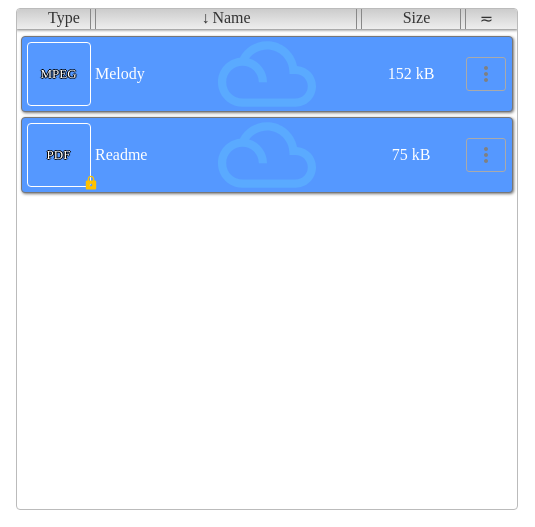
Test case: FileManager sorting › should test basic sorting
The image size is (535, 527).
expect the element with test id "file-container" is shown: met, box left=17, top=36, right=517, bottom=193
expect the text "MPEG" is shown: met, box left=40, top=66, right=76, bottom=81
Click the element with test id "column-type": {"x": 59, "y": 19} left=27, top=9, right=91, bottom=29
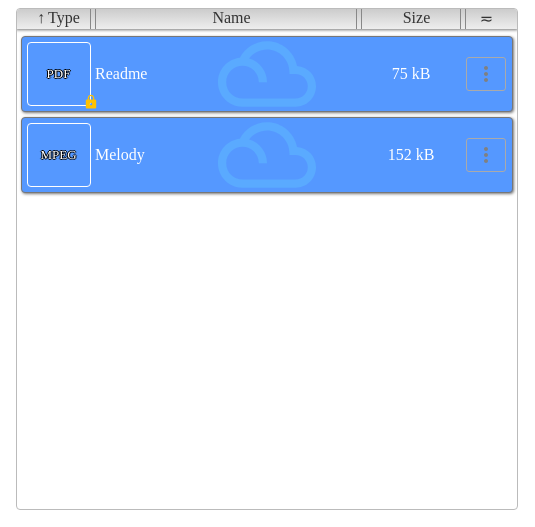
expect the text "PDF" is shown: met, box left=47, top=66, right=70, bottom=81
expect the text "MPEG" is shown: met, box left=40, top=147, right=76, bottom=162
expect the text "75 kB" is shown: met, box left=392, top=65, right=430, bottom=82
Click the element with test id "column-size": {"x": 411, "y": 19} left=361, top=9, right=461, bottom=29
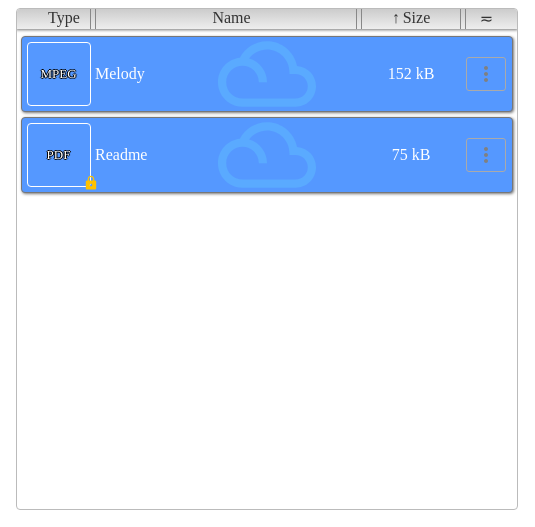
expect the text "152 kB" is shown: met, box left=388, top=65, right=434, bottom=82
expect the text "75 kB" is shown: met, box left=392, top=146, right=430, bottom=163
expect the text with test id "read-only-text" reads "Melody": met, box left=95, top=65, right=145, bottom=82
Click the element with test id "column-name": {"x": 226, "y": 19} left=95, top=9, right=357, bottom=29
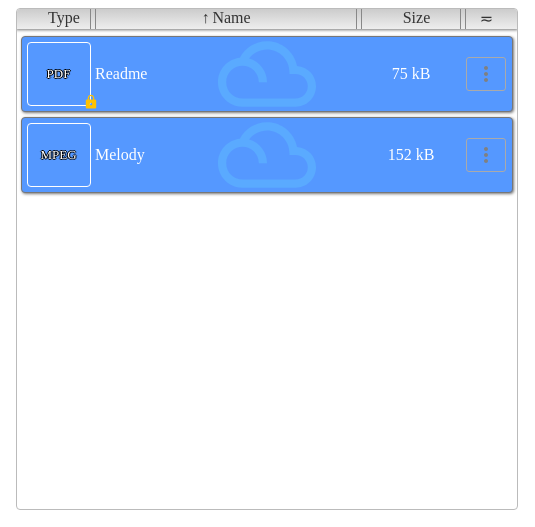
expect the text with test id "read-only-text" reads "Readme": met, box left=95, top=65, right=147, bottom=82
expect the text with test id "read-only-text" reads "Melody": met, box left=95, top=146, right=145, bottom=163
